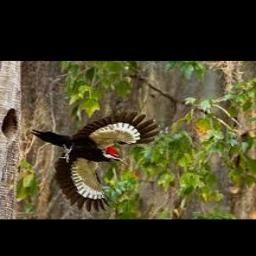Woodpecker: (31, 110, 164, 210)
